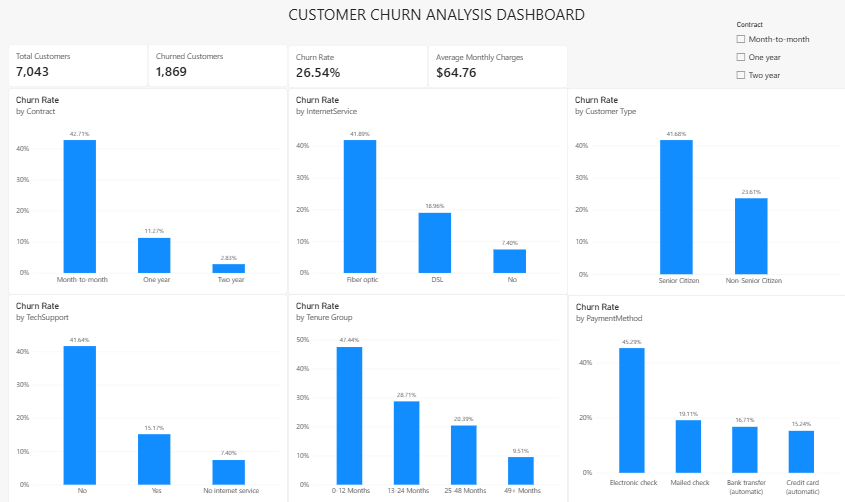

The page's visual inventory and layout, read from the dashboard file:
{"tool":"powerbi","page":{"name":"Page 1","canvas":[1920,1080],"ordinal":0},"visuals":[{"type":"cardVisual","fields":{"Data":["Customers.Total Customers Display"]},"box":[62.8,111.6,293,90.7],"z":0},{"type":"cardVisual","fields":{"Data":["Customers.Churned Customers Display"]},"box":[355.8,111.6,293,90.7],"z":1},{"type":"cardVisual","fields":{"Data":["Customers.Churn Rate"]},"box":[648.8,114,293,90.7],"z":2},{"type":"clusteredColumnChart","fields":{"Category":["Customers.Contract"],"Y":["Customers.Churn Rate"]},"box":[62.9,202.4,585.3,432.1],"z":3},{"type":"clusteredColumnChart","fields":{"Category":["Customers.Tenure Group"],"Y":["Customers.Churn Rate"]},"box":[648.8,634.9,585.3,444.1],"z":4},{"type":"clusteredColumnChart","fields":{"Category":["Customers.InternetService"],"Y":["Customers.Churn Rate"]},"box":[648.2,202.4,588,432.1],"z":5},{"type":"clusteredColumnChart","fields":{"Category":["Customers.PaymentMethod"],"Y":["Customers.Churn Rate"]},"box":[1234.9,637.2,585.3,441.2],"z":6},{"type":"clusteredColumnChart","fields":{"Category":["Customers.TechSupport"],"Y":["Customers.Churn Rate"]},"box":[62.8,634.9,585.3,444.1],"z":7},{"type":"textbox","box":[0,25.6,1920.9,51.2],"z":8},{"type":"cardVisual","fields":{"Data":["Customers.Average Monthly Charges"]},"box":[941.9,114,293,90.7],"z":9},{"type":"clusteredColumnChart","fields":{"Category":["Customers.Customer Type"],"Y":["Customers.Churn Rate"]},"box":[1233.5,202.4,588,434.9],"z":10},{"type":"slicer","fields":{"Values":["Customers.Contract"]},"box":[1579.6,63.3,240.8,140.8],"z":11}]}

Visuals, with their boxes on the page's 1920x1080 design canvas (x1, y1, x2, y2). These are canvas units, not pixel positions in the 845x502 screenshot, which may show the page scaled, cropped or inside an application window:
cardVisual - Customers.Total Customers Display: rect(63, 112, 356, 202)
cardVisual - Customers.Churned Customers Display: rect(356, 112, 649, 202)
cardVisual - Customers.Churn Rate: rect(649, 114, 942, 205)
clusteredColumnChart - Customers.Contract x Customers.Churn Rate: rect(63, 202, 648, 634)
clusteredColumnChart - Customers.Tenure Group x Customers.Churn Rate: rect(649, 635, 1234, 1079)
clusteredColumnChart - Customers.InternetService x Customers.Churn Rate: rect(648, 202, 1236, 634)
clusteredColumnChart - Customers.PaymentMethod x Customers.Churn Rate: rect(1235, 637, 1820, 1078)
clusteredColumnChart - Customers.TechSupport x Customers.Churn Rate: rect(63, 635, 648, 1079)
textbox: rect(0, 26, 1921, 77)
cardVisual - Customers.Average Monthly Charges: rect(942, 114, 1235, 205)
clusteredColumnChart - Customers.Customer Type x Customers.Churn Rate: rect(1234, 202, 1822, 637)
slicer - Customers.Contract: rect(1580, 63, 1820, 204)
